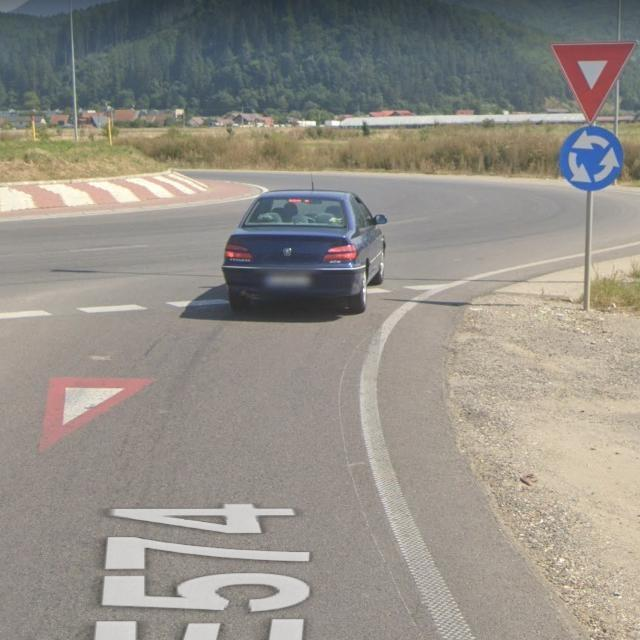prio_give_way: (39, 376, 156, 454), (551, 43, 635, 124)
